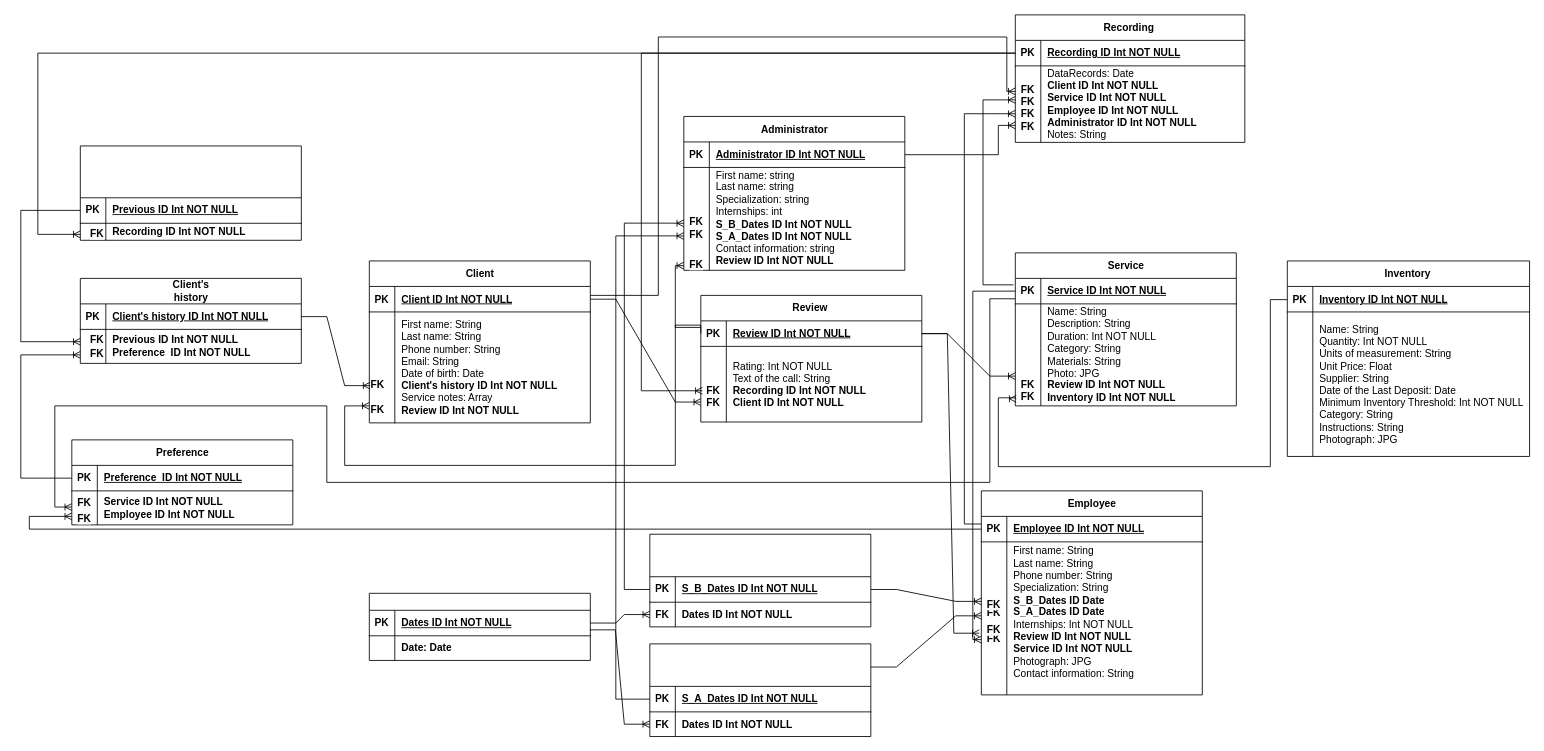
The diagram is 1544 pixels wide and 751 high, and some of its shapes have lost their labels. The shapes that lost their labels are listed below. From the top down, each one's box as (x1, y1, x2, y2) in pixels, then its label:
(79, 145, 301, 240): Previous customer record
(649, 533, 871, 627): Schedule of busy dates
(368, 592, 590, 660): Calendar
(649, 643, 871, 737): Schedule of available dates
